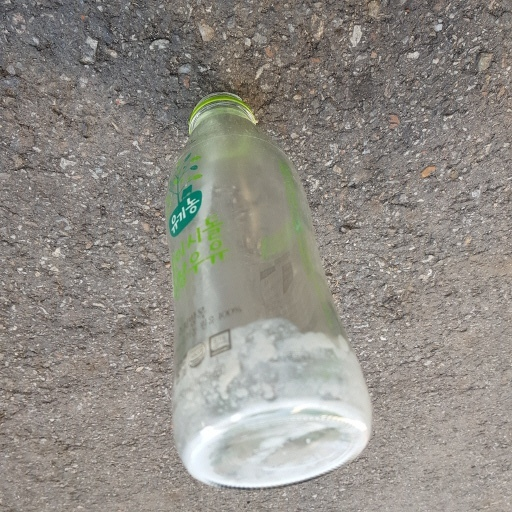Glass_4: (160, 92, 375, 492)
